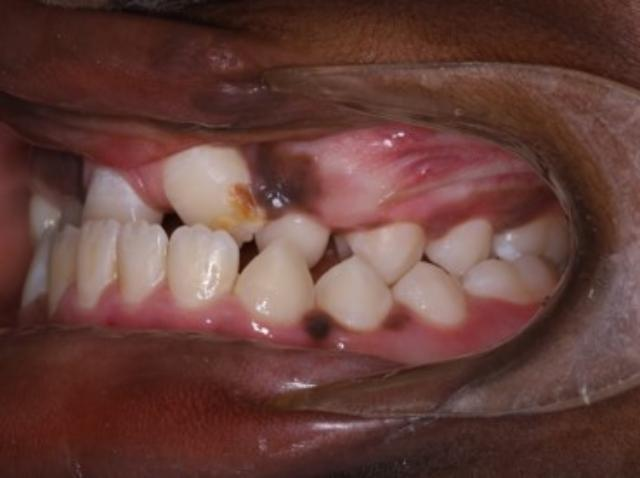canine class II 1/2: (235, 201, 392, 339)
molar class I: (465, 200, 579, 320)
